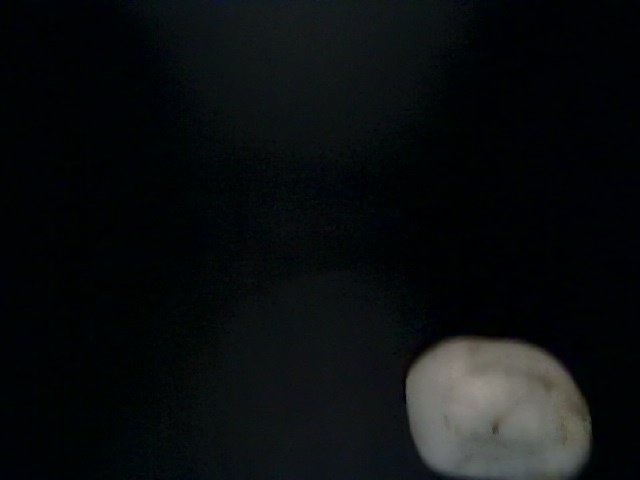QTLJ: (396, 337, 602, 477)
